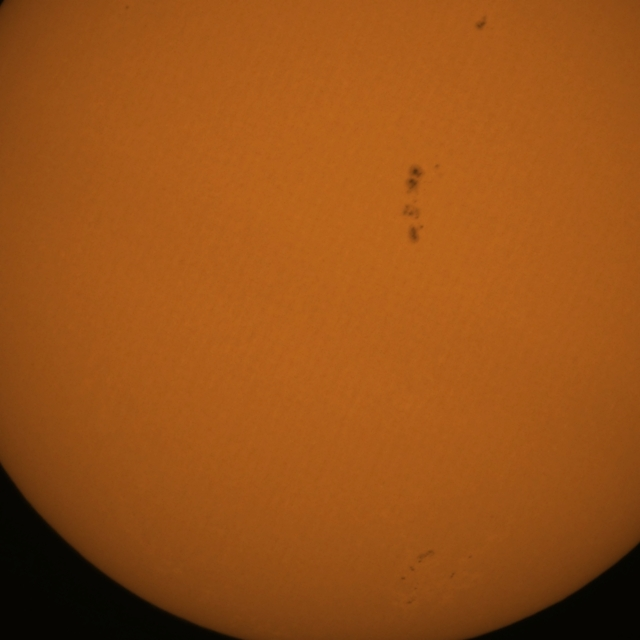sunspot: (402, 203, 426, 247), (404, 164, 426, 199), (416, 548, 435, 566), (474, 14, 489, 32), (406, 598, 416, 606), (124, 3, 131, 11), (449, 572, 456, 580), (467, 554, 473, 560), (400, 576, 406, 581)
